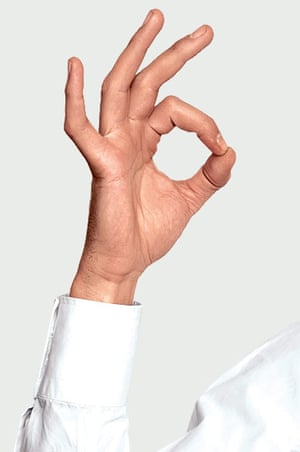Hand: (10, 1, 236, 300)
